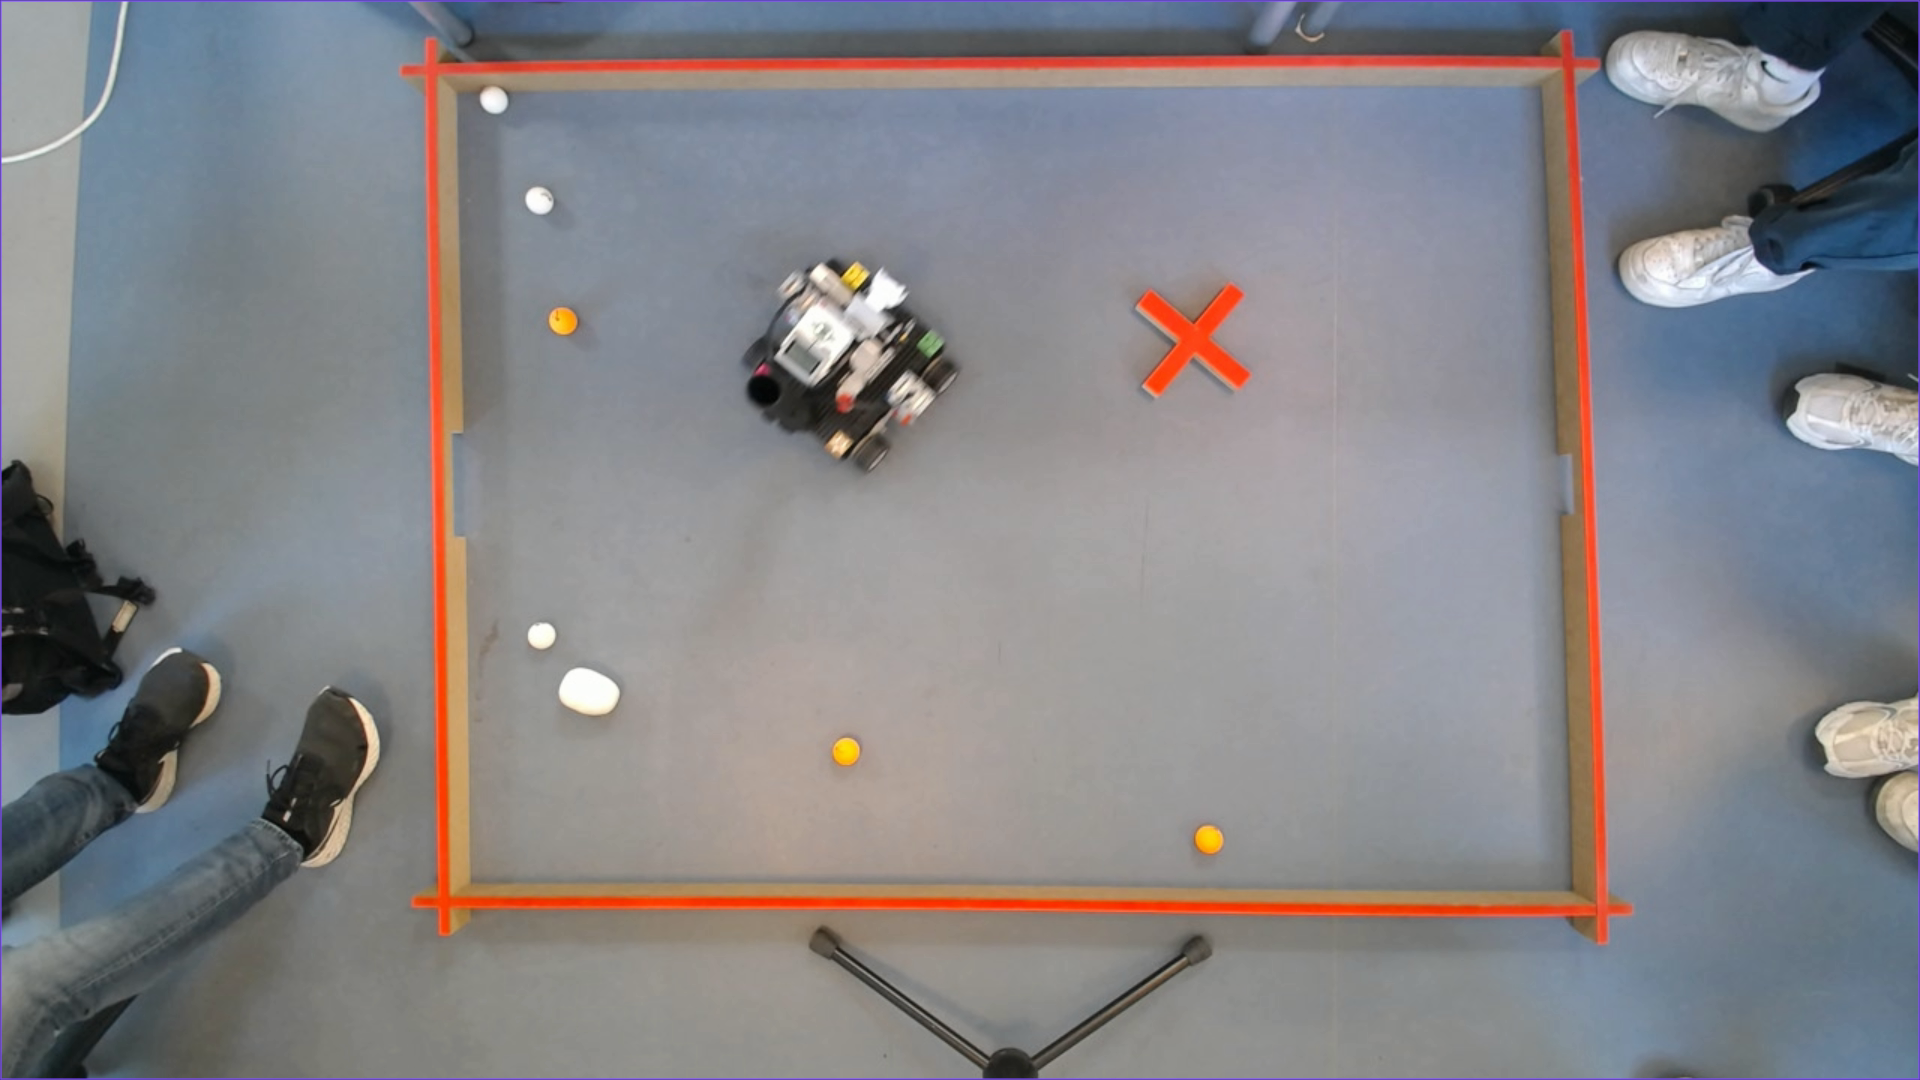ball_orange: (1193, 824, 1224, 855), (832, 737, 861, 766), (549, 307, 578, 335)
ball_white: (479, 84, 509, 113), (525, 186, 554, 215), (527, 622, 556, 650)
corner_brown: (825, 430, 853, 459)
corner_green: (916, 330, 945, 357)
corner_yellow: (843, 262, 869, 290)
cross: (1137, 284, 1251, 396)
egg: (558, 667, 621, 716)
playfield: (425, 55, 1609, 915)
